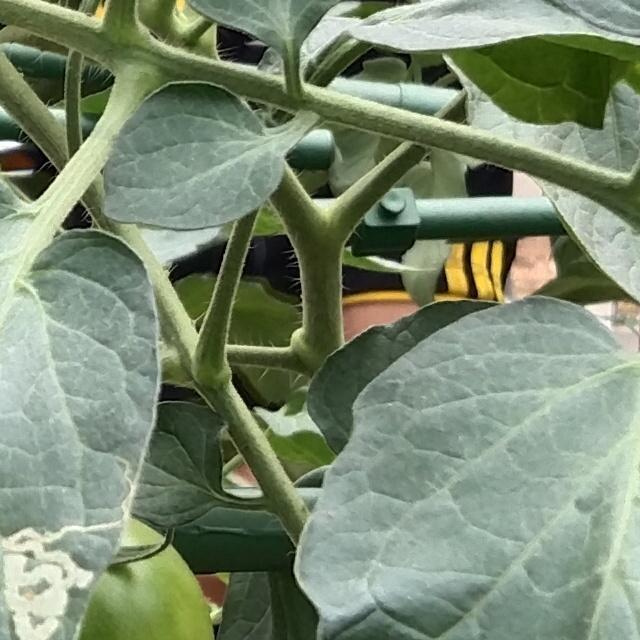Tomato target spot leaf: (0, 173, 158, 640)
